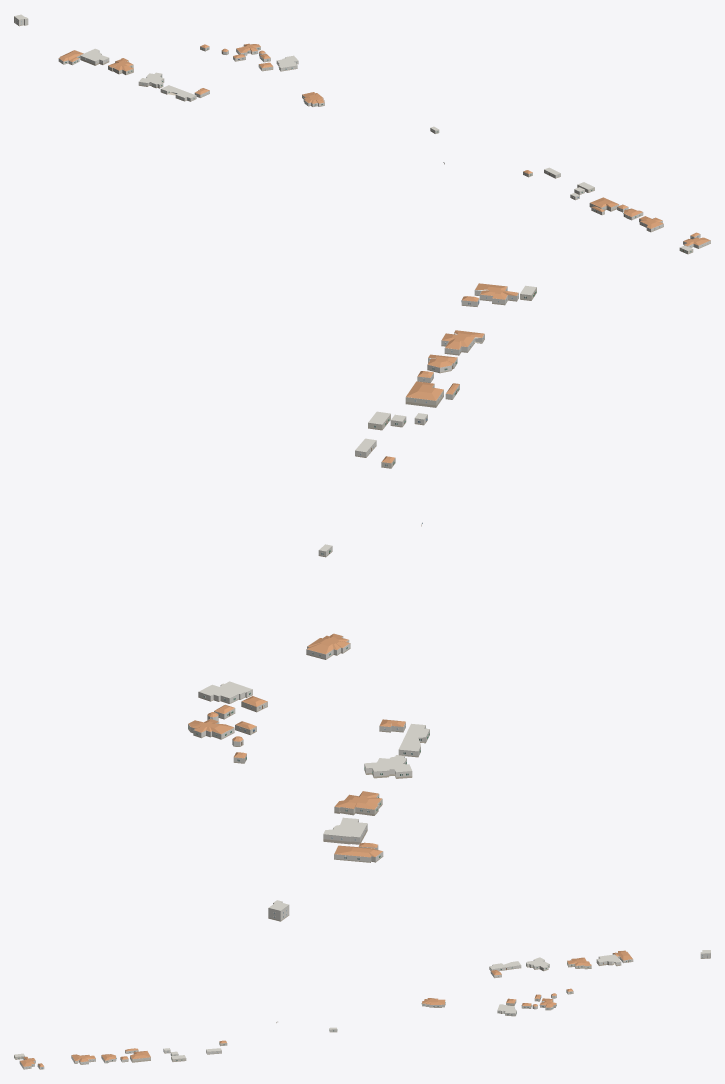
The model's file is nw_shore_houses.glb.
3 renders of one model, top to bottom at view 1: azimuth 30°, elevation 25°; view 2: azimuth 150°, elevation 25°; view 3: azimuth 270°, elevation 25°, orthographic. The views are drawn at different scales.
Parts seen in each view (by area): view 1: nw_shore_houses_lod0; view 2: nw_shore_houses_lod0; view 3: nw_shore_houses_lod0.
Part boxes in pixels (x1,y1,x2,y2): nw_shore_houses_lod0: (14, 14, 710, 254); nw_shore_houses_lod0: (188, 283, 536, 921); nw_shore_houses_lod0: (14, 950, 710, 1069).
Size of what is drawn, in the model's own units: 314 by 13.07 by 759.
